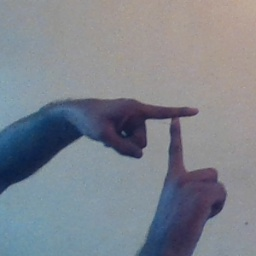T: (121, 90, 227, 193)
